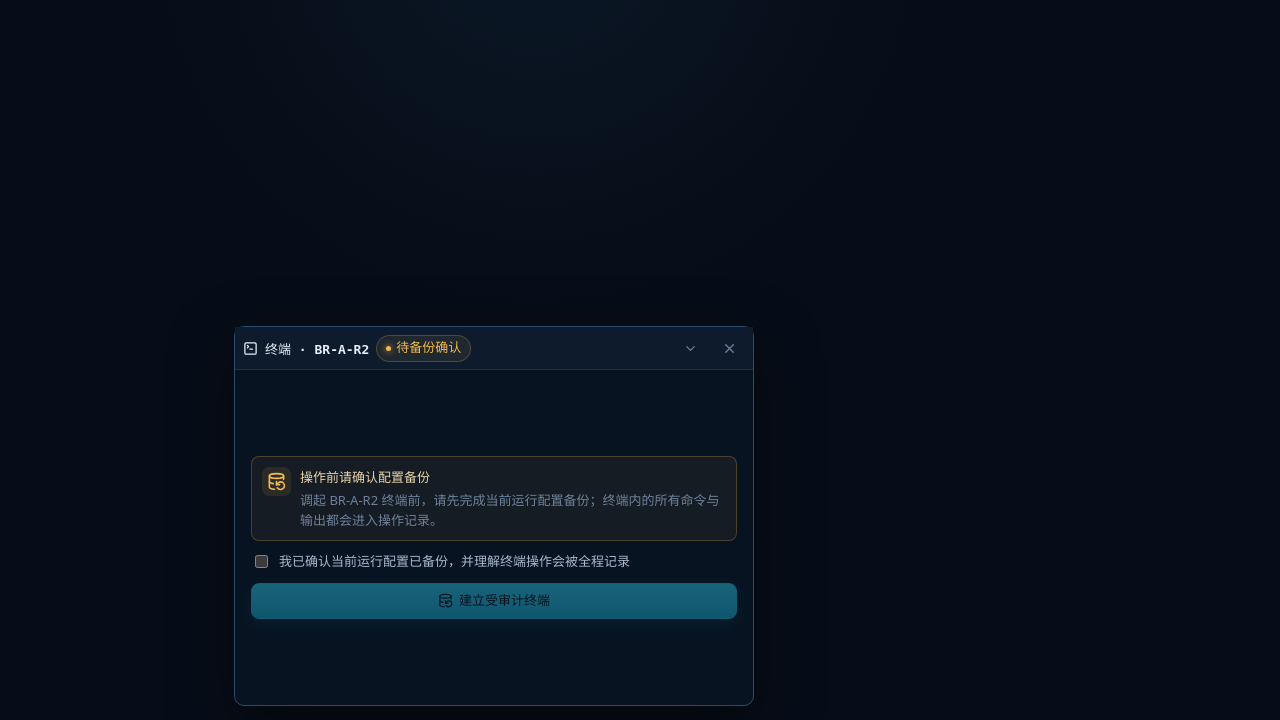
Scenario: TerminalDock safety and audit flow › requires a second confirmation before sending a write command
This screenshot has width=1280, height=720.
Click the checkbox at x=262, y=562, box [255,555,268,568]
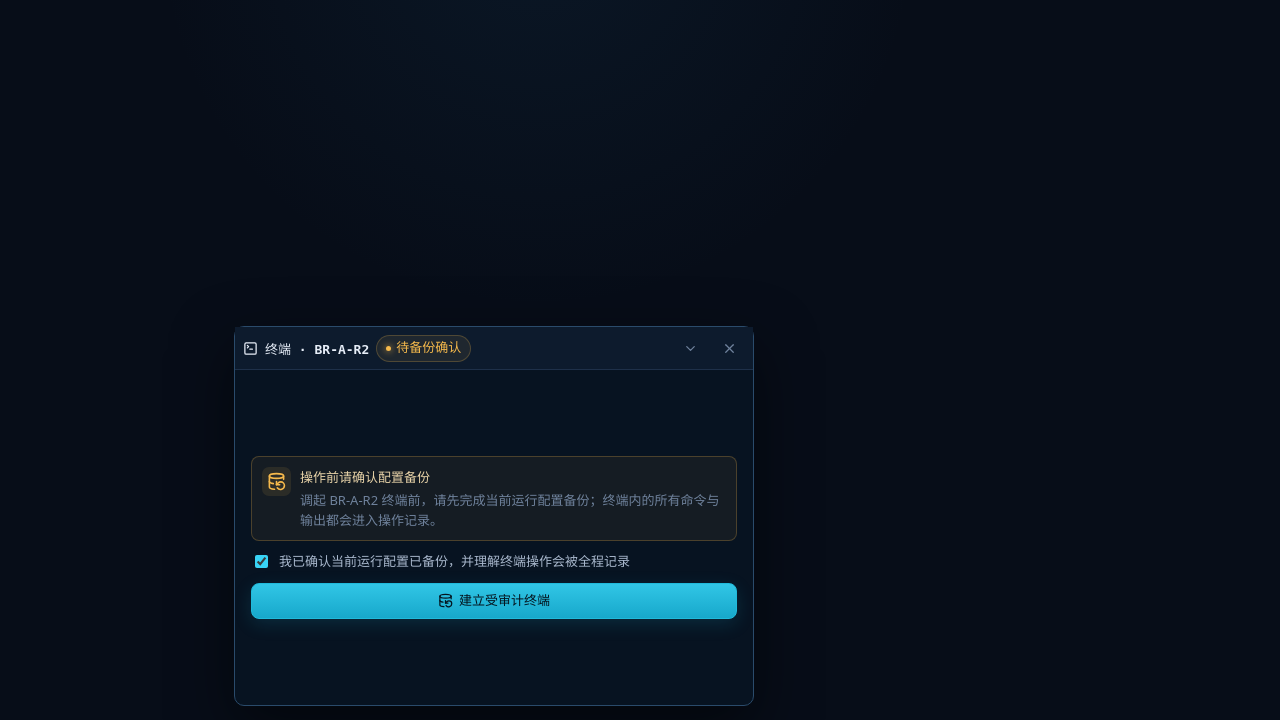
Click the button "建立受审计终端" at x=494, y=601, box [251,583,737,619]
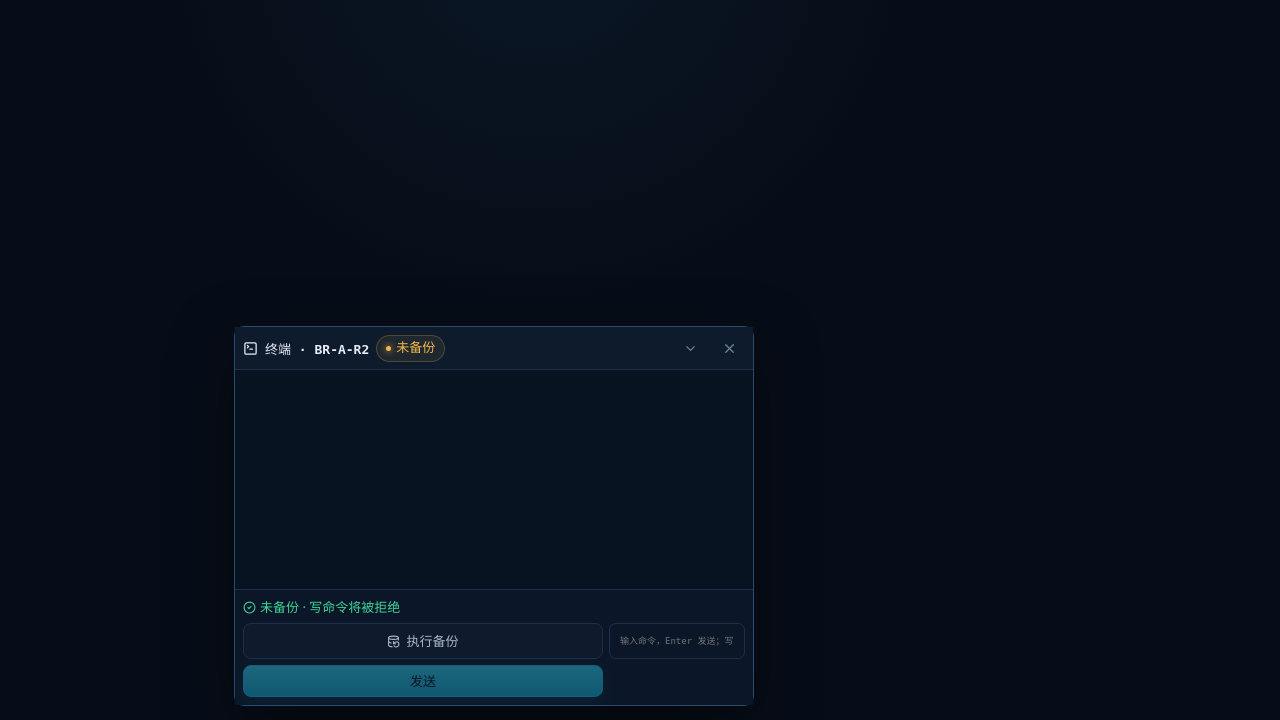
Click the button "执行备份" at x=423, y=641, box [243,623,603,659]
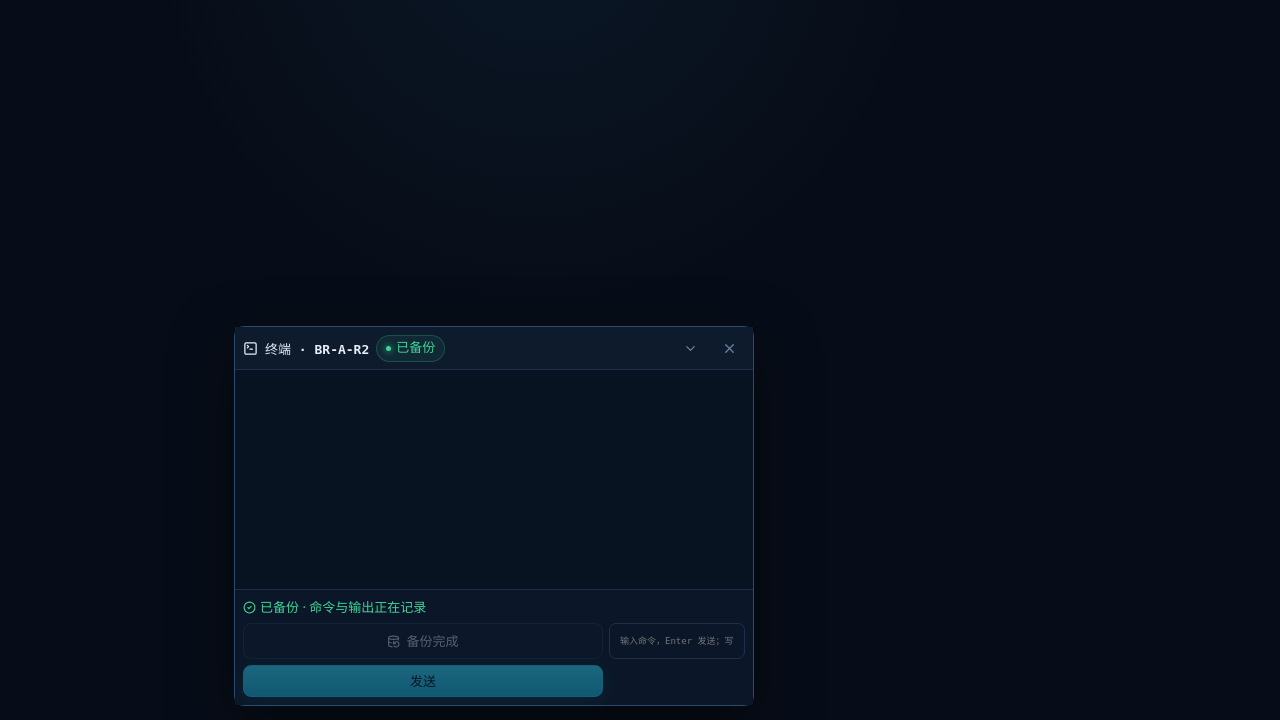
Type "configure terminal" into the field with placeholder "输入命令，Enter 发送；写操作会二次确认" at x=677, y=641, box [609,623,745,659]
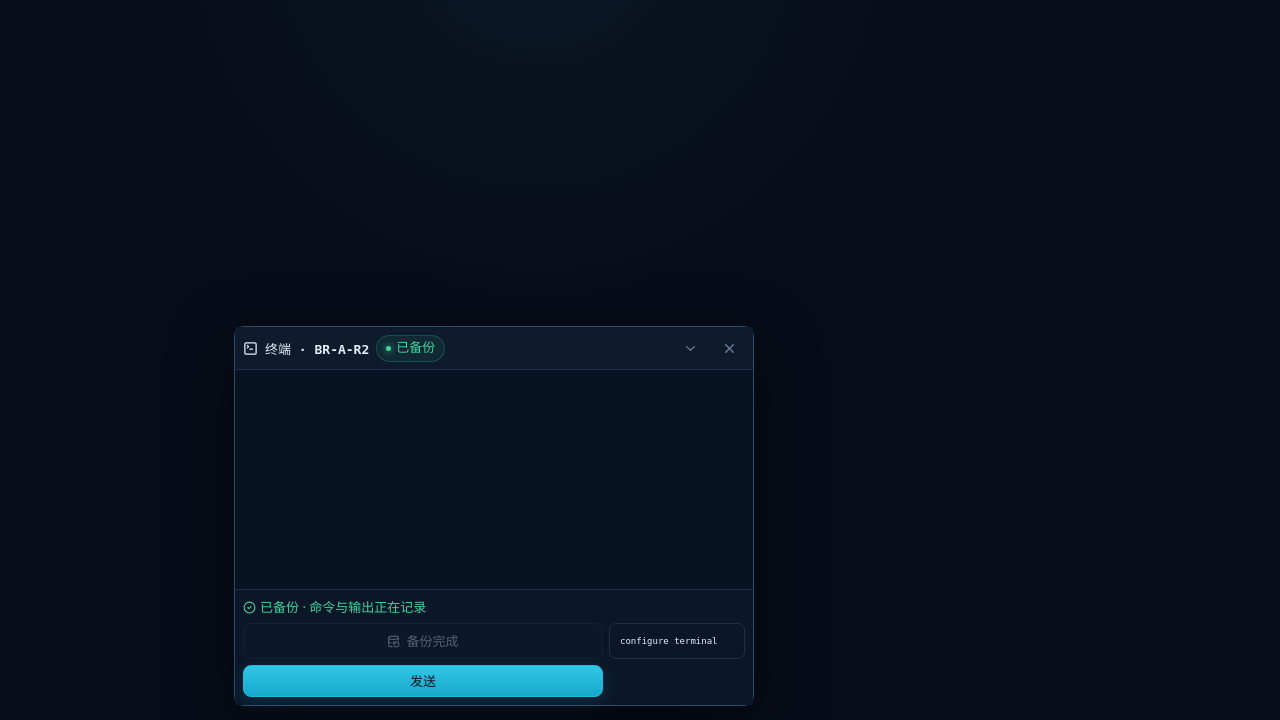
Click the button "发送" at x=423, y=681, box [243,665,603,697]
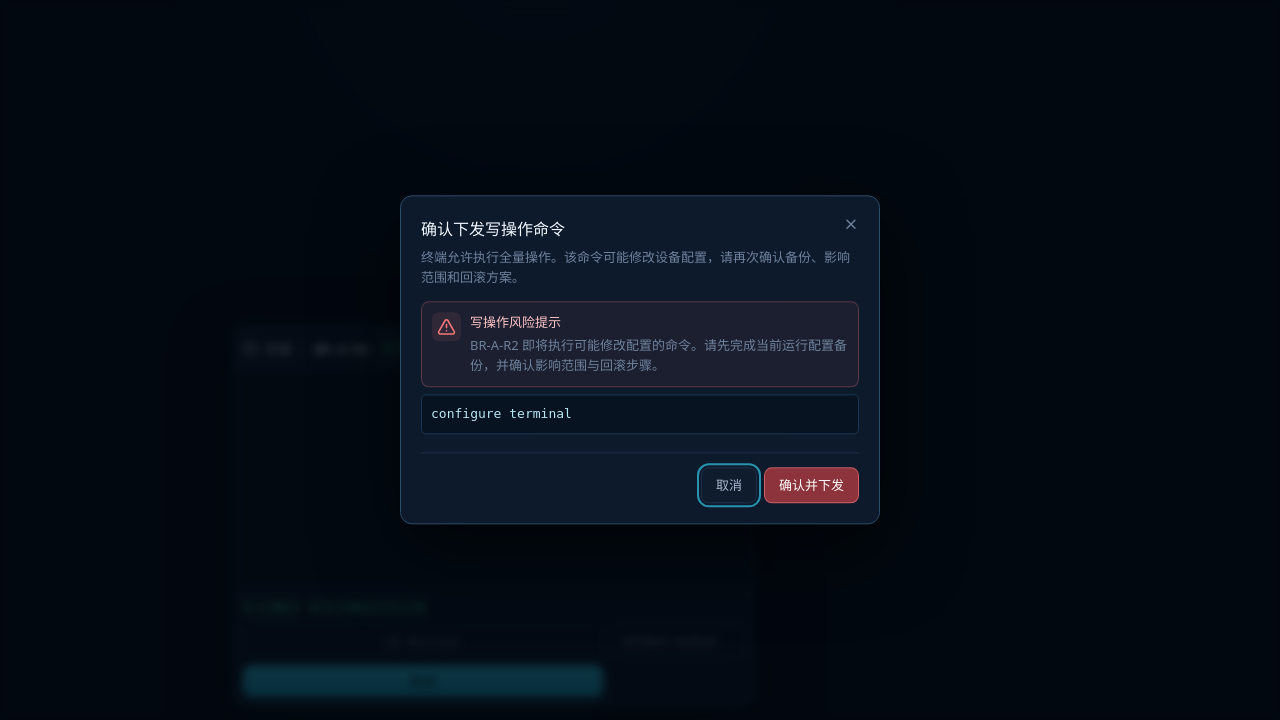
Now the heading "确认下发写操作命令" is shown, box [421,218,565,240]
